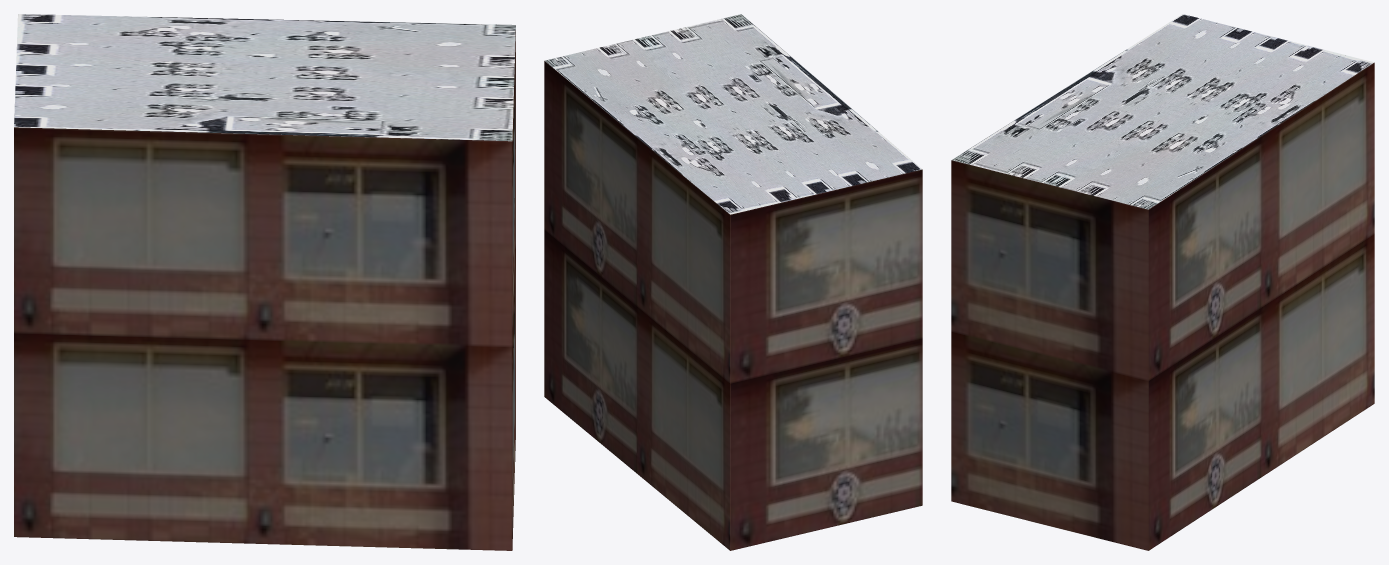
File: ResTex__2032.fbx
The picture shows the model from 3 angles, left to right: view 1: azimuth 30°, elevation 25°; view 2: azimuth 150°, elevation 25°; view 3: azimuth 270°, elevation 25°; orthographic projection. The views are drawn at different scales.
Parts seen in each view (by area): view 1: CityEngineMaterial_13_m, CityEngineMaterial_m; view 2: CityEngineMaterial_13_m, CityEngineMaterial_m; view 3: CityEngineMaterial_13_m, CityEngineMaterial_m.
Part boxes in pixels (bbox=[...]): CityEngineMaterial_13_m: bbox=[14, 30, 515, 550]; CityEngineMaterial_m: bbox=[14, 14, 515, 141]; CityEngineMaterial_13_m: bbox=[544, 61, 922, 550]; CityEngineMaterial_m: bbox=[545, 14, 922, 214]; CityEngineMaterial_13_m: bbox=[951, 62, 1374, 550]; CityEngineMaterial_m: bbox=[951, 14, 1374, 209].
Size of the model in its own units: 7.38 by 6 by 6.74.
2 materials, 2 textured.
